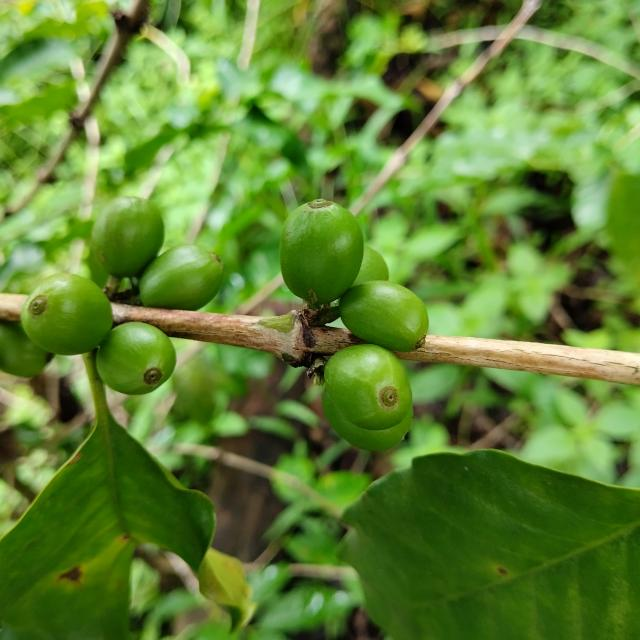green: (279, 198, 364, 309), (324, 344, 412, 431), (20, 273, 112, 355), (339, 280, 429, 352), (90, 196, 164, 278), (96, 322, 176, 395), (322, 391, 413, 452), (139, 244, 222, 310), (351, 246, 389, 287)
